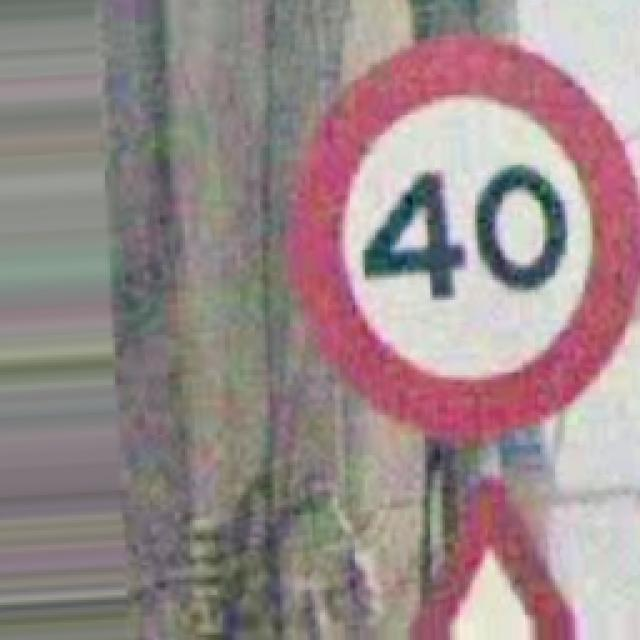Speed Limit -40-: (295, 35, 638, 442)
